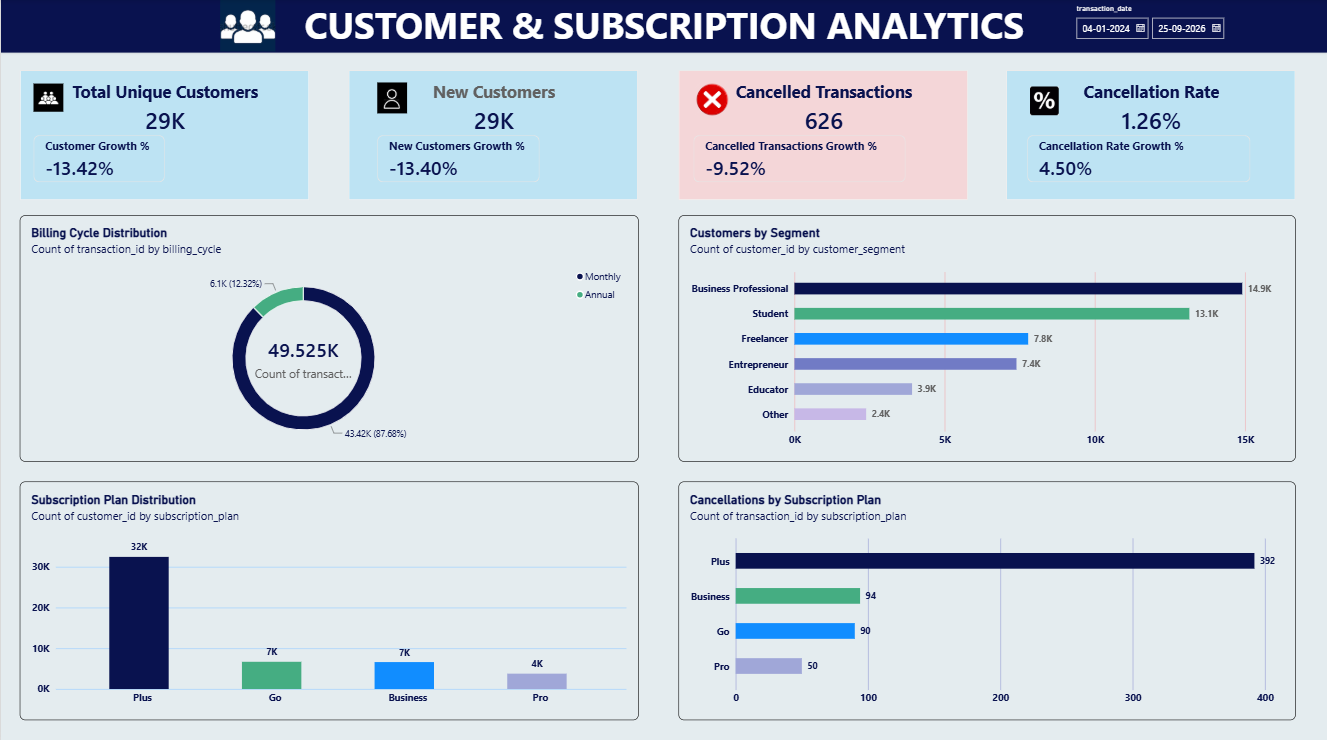

What the dashboard file says about the page in this screenshot:
{"tool":"powerbi","page":{"name":"Customer & Subscription","canvas":[1920,1080],"ordinal":2},"visuals":[{"type":"textbox","box":[0,0,1920.1,77.8],"z":0},{"type":"cardVisual","fields":{"Data":["combined_sales_50000.Total Unique Customers"]},"box":[27.1,103.2,419.8,188.2],"z":1000},{"type":"cardVisual","fields":{"Data":["combined_sales_50000.New Customers"]},"box":[503.1,103.2,419.8,188.2],"z":2000},{"type":"cardVisual","fields":{"Data":["combined_sales_50000.Cancellation Rate"]},"box":[1455,103.2,419.8,188.2],"z":3000},{"type":"cardVisual","fields":{"Data":["combined_sales_50000.Cancelled Transactions"]},"box":[980.8,103.2,419.8,188.2],"z":4000},{"type":"clusteredBarChart","title":"Customers by Segment","fields":{"Category":["combined_sales_50000.customer_segment"],"Y":["CountNonNull(combined_sales_50000.customer_id)"]},"box":[980.8,313.1,894,356.5],"z":5000},{"type":"clusteredColumnChart","title":"Subscription Plan Distribution","fields":{"Category":["combined_sales_50000.subscription_plan"],"Y":["CountNonNull(combined_sales_50000.customer_id)"]},"box":[27.1,698.5,895.8,345.6],"z":6000},{"type":"donutChart","title":"Billing Cycle Distribution","fields":{"Category":["combined_sales_50000.billing_cycle"],"Y":["CountNonNull(combined_sales_50000.transaction_id)"]},"box":[27.1,313.1,895.8,356.5],"z":7000},{"type":"clusteredBarChart","title":"Cancellations by Subscription Plan","fields":{"Category":["combined_sales_50000.subscription_plan"],"Y":["CountNonNull(combined_sales_50000.transaction_id)"]},"box":[980.8,698.5,894,345.6],"z":8000},{"type":"image","box":[1002.6,117.6,54.3,56.1],"z":9000},{"type":"image","box":[1485.7,126.7,48.9,41.6],"z":10000},{"type":"image","box":[544.7,117.6,43.4,50.7],"z":11000},{"type":"cardVisual","fields":{"Data":["combined_sales_50000.Customer Growth %"]},"box":[47.1,197.3,190,68.8],"z":12000},{"type":"cardVisual","fields":{"Data":["combined_sales_50000.New Customers Growth %"]},"box":[544.7,197.3,235.3,68.8],"z":13000},{"type":"cardVisual","fields":{"Data":["combined_sales_50000.Cancelled Transactions Growth %"]},"box":[1002.6,197.3,307.6,68.8],"z":14000},{"type":"cardVisual","fields":{"Data":["combined_sales_50000.Cancellation Rate Growth %"]},"box":[1485.7,197.3,323.9,68.8],"z":15000},{"type":"image","box":[47.1,117.6,43.4,50.7],"z":16000},{"type":"image","box":[307.6,0,99.5,76],"z":17000},{"type":"slicer","fields":{"Values":["combined_sales_50000.transaction_date"]},"box":[1549.1,7.2,354.7,70.6],"z":18000}]}

Visuals, with their boxes in screenshot pixels (x1, y1, x2, y2), scaled from the page's 1920x1080 canvas onto the 1327x740 screenshot:
textbox: 0/0/1326/53
cardVisual - combined_sales_50000.Total Unique Customers: 19/71/309/200
cardVisual - combined_sales_50000.New Customers: 348/71/638/200
cardVisual - combined_sales_50000.Cancellation Rate: 1006/71/1296/200
cardVisual - combined_sales_50000.Cancelled Transactions: 678/71/968/200
"Customers by Segment" clusteredBarChart: 678/215/1296/459
"Subscription Plan Distribution" clusteredColumnChart: 19/479/638/715
"Billing Cycle Distribution" donutChart: 19/215/638/459
"Cancellations by Subscription Plan" clusteredBarChart: 678/479/1296/715
image: 693/81/730/119
image: 1027/87/1061/115
image: 376/81/406/115
cardVisual - combined_sales_50000.Customer Growth %: 33/135/164/182
cardVisual - combined_sales_50000.New Customers Growth %: 376/135/539/182
cardVisual - combined_sales_50000.Cancelled Transactions Growth %: 693/135/906/182
cardVisual - combined_sales_50000.Cancellation Rate Growth %: 1027/135/1251/182
image: 33/81/63/115
image: 213/0/281/52
slicer - combined_sales_50000.transaction_date: 1071/5/1316/53
